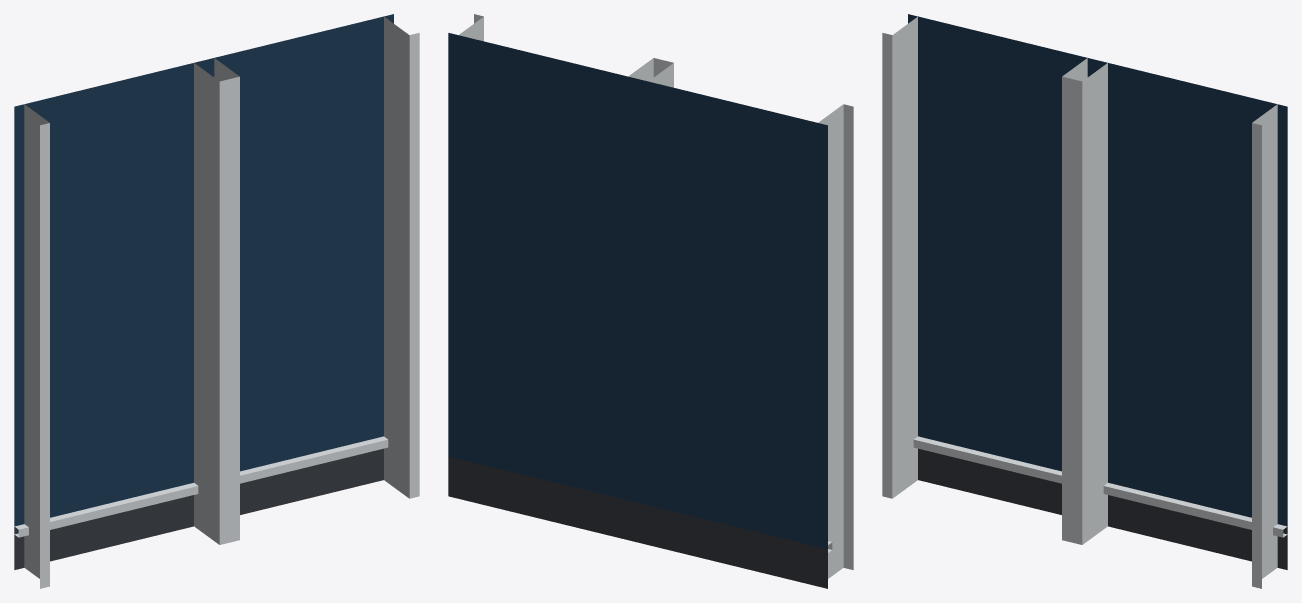
Rendered from mid-w1.fbx.
The picture shows the model from 3 angles, left to right: view 1: azimuth 30°, elevation 25°; view 2: azimuth 150°, elevation 25°; view 3: azimuth 330°, elevation 25°; orthographic projection.
Parts seen in each view (by area): view 1: a2012/200/mid-w1; view 2: a2012/200/mid-w1; view 3: a2012/200/mid-w1.
Boxes of the visible parts, x1=… form: a2012/200/mid-w1: x1=14, y1=14, x2=419, y2=588; a2012/200/mid-w1: x1=448, y1=14, x2=853, y2=588; a2012/200/mid-w1: x1=882, y1=14, x2=1287, y2=588.
Size of the model in its own units: 3 by 3.5 by 0.35.
